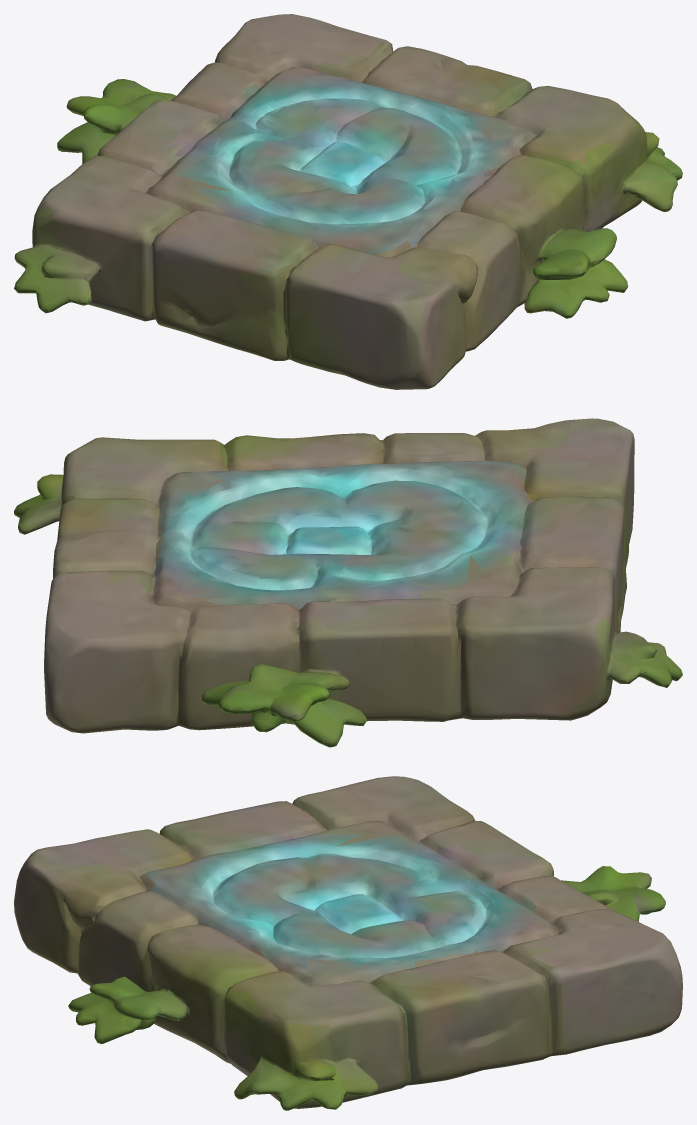
The model's file is baldosa_guardado.glb.
3 renders of one model, top to bottom at view 1: azimuth 30°, elevation 25°; view 2: azimuth 150°, elevation 25°; view 3: azimuth 270°, elevation 25°, orthographic. The views are drawn at different scales.
Visible parts, largest first — view 1: baldosa_guardado_malla; view 2: baldosa_guardado_malla; view 3: baldosa_guardado_malla.
Boxes of the visible parts, x1,y1,x2,y2 form: baldosa_guardado_malla: [14, 14, 682, 389]; baldosa_guardado_malla: [14, 418, 682, 747]; baldosa_guardado_malla: [14, 776, 682, 1110].
Bounding box in the file's own units: 0.2199 × 0.031 × 0.2113.
Materials: 1 (1 with a texture image).
